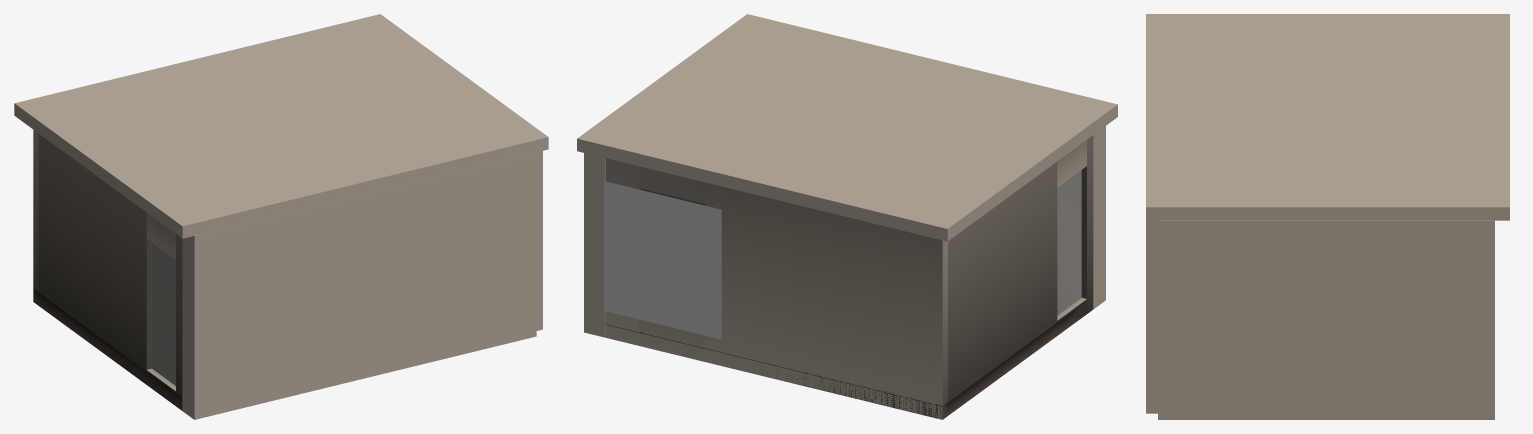
Rendered from room_studio.glb.
3 renders of one model, left to right at view 1: azimuth 30°, elevation 25°; view 2: azimuth 150°, elevation 25°; view 3: azimuth 270°, elevation 25°, orthographic. The views are drawn at different scales.
Parts seen in each view (by area): view 1: ShadowBox_shadowonly, Decor; view 2: ShadowBox_shadowonly, Decor, WindowView_noshadow; view 3: ShadowBox_shadowonly.
Part boxes in pixels (<box>): ShadowBox_shadowonly: <box>14,14,548,419</box>; Decor: <box>33,130,182,410</box>; ShadowBox_shadowonly: <box>577,14,1117,337</box>; Decor: <box>605,135,1093,419</box>; WindowView_noshadow: <box>603,181,721,339</box>; ShadowBox_shadowonly: <box>1146,14,1509,419</box>.
Size of the model in its own units: 6.12 by 3.14 by 4.99.
